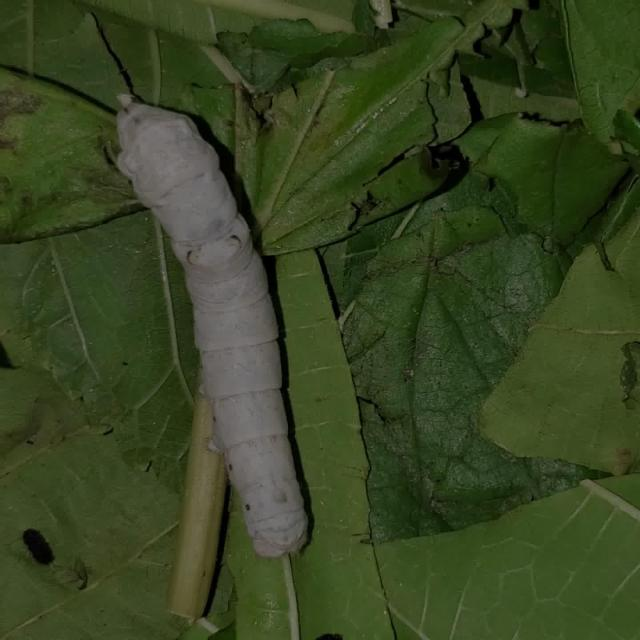Healthy: (91, 87, 322, 569)
